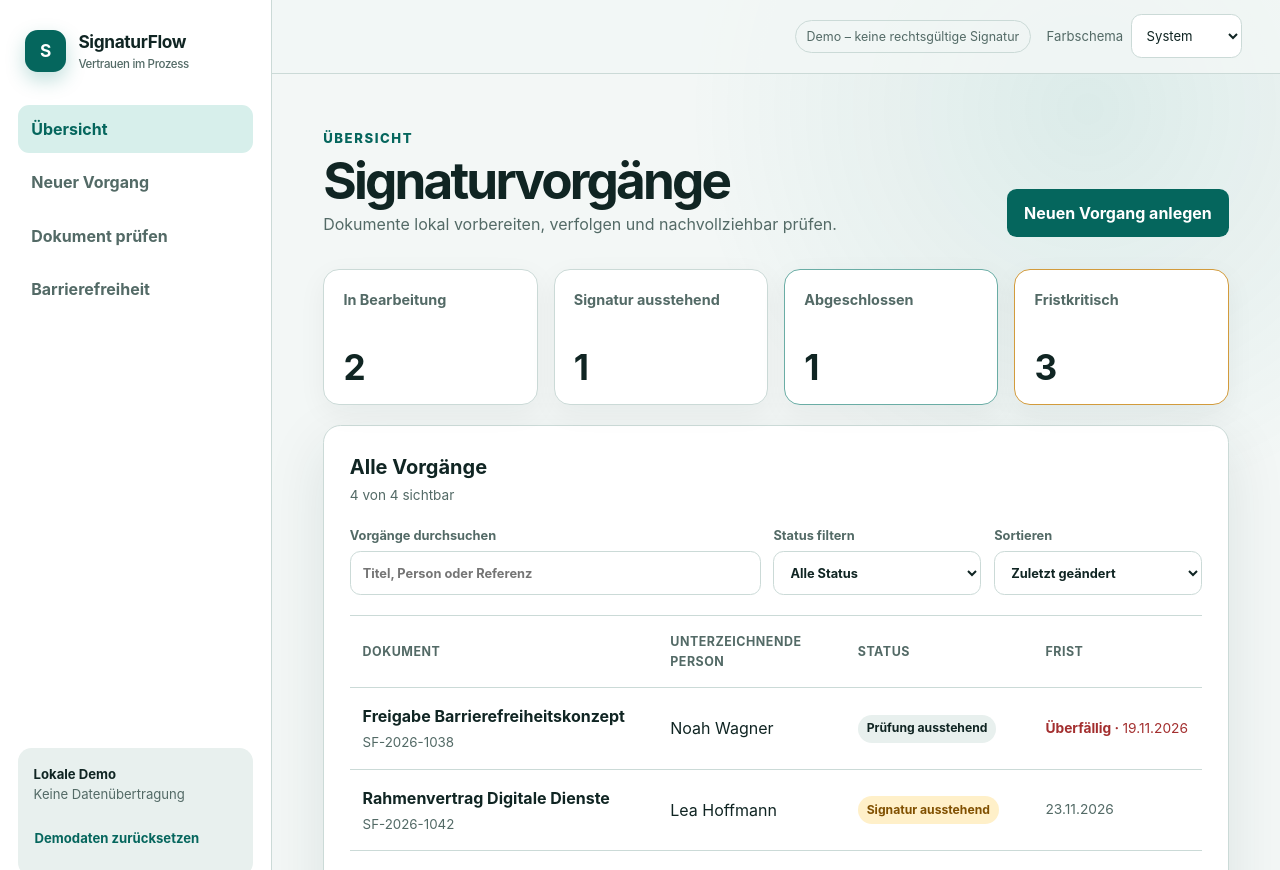
Scenario: App › requires confirmation before resetting local demo data
Later steps or results of the test are not shown.
Click the button "Demodaten zurücksetzen" at (136, 838), box [34,816,237,860]
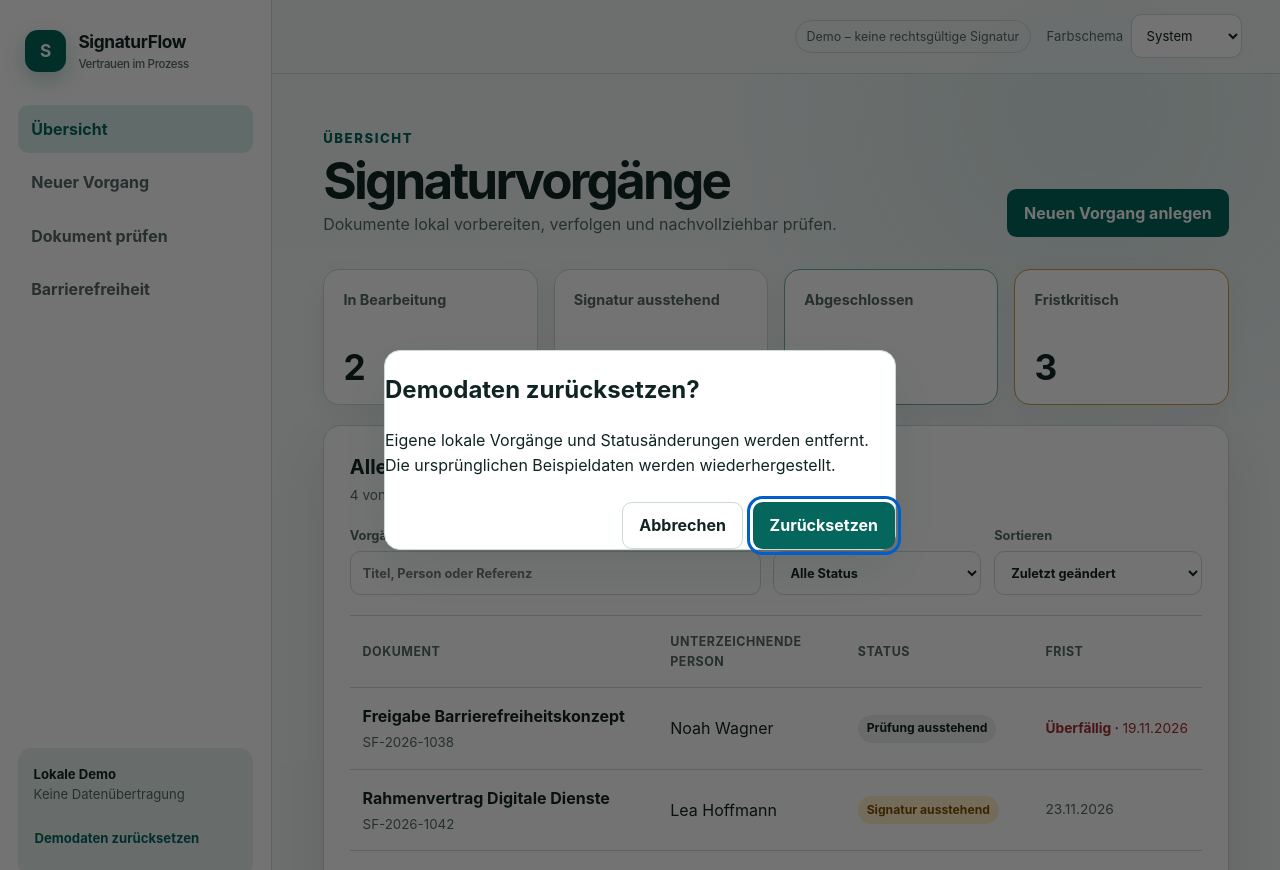
Check: the dialog "Demodaten zurücksetzen?" is shown, box [384,350,896,550]
Click the button "Abbrechen" at (683, 525), box [622,502,743,549]
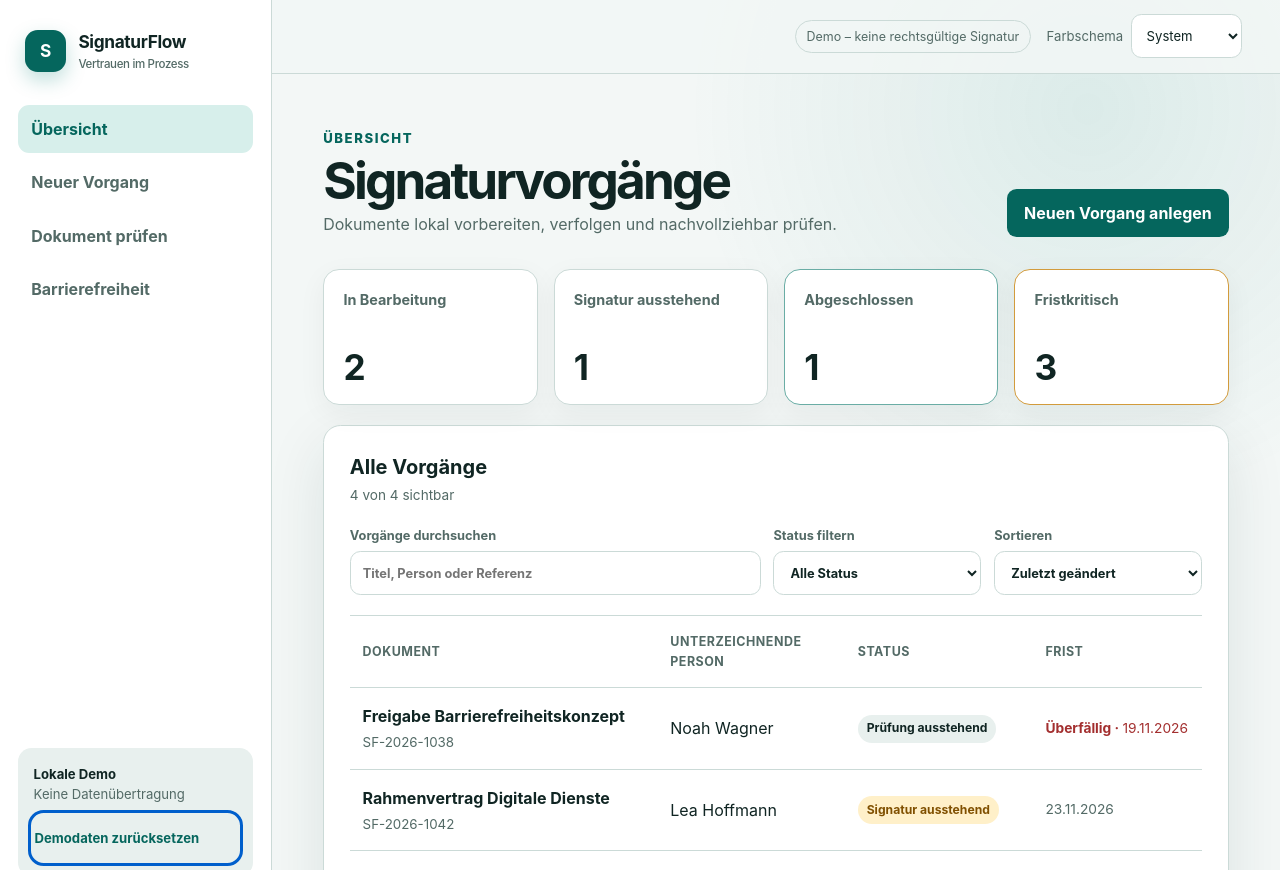
Check: the dialog is gone
